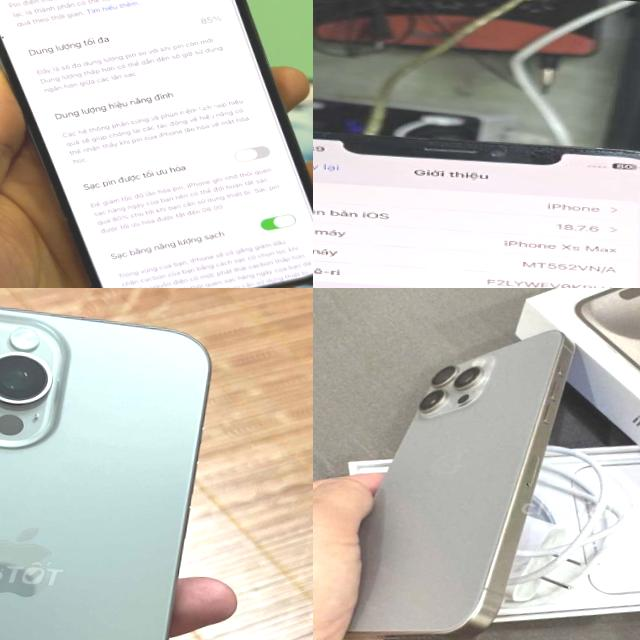screen_defect: (0, 32, 8, 44)
